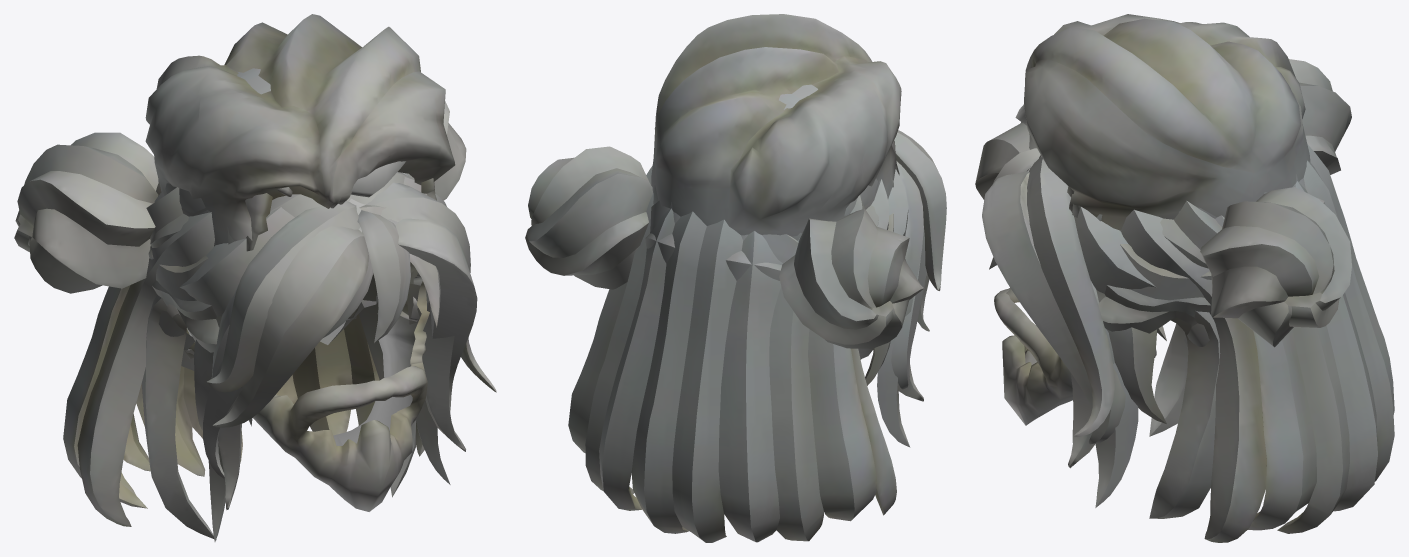
Rendered from hairs.glb.
The picture shows the model from 3 angles, left to right: view 1: azimuth 30°, elevation 25°; view 2: azimuth 150°, elevation 25°; view 3: azimuth 270°, elevation 25°; orthographic projection. The views are drawn at different scales.
Parts seen in each view (by area): view 1: Hair_Long, Hair_SimpleParted, Hair_Buns, Hair_Beard, Hair_Buzzed; view 2: Hair_Long, Hair_SimpleParted, Hair_Buns, Hair_Buzzed; view 3: Hair_Long, Hair_SimpleParted, Hair_Buns, Hair_Beard.
Boxes of the visible parts, left/top/right/bottom form: Hair_Long: left=63, top=173, right=496, bottom=539; Hair_SimpleParted: left=145, top=14, right=455, bottom=244; Hair_Buns: left=14, top=101, right=466, bottom=541; Hair_Beard: left=253, top=262, right=429, bottom=511; Hair_Buzzed: left=161, top=68, right=436, bottom=251; Hair_Long: left=568, top=130, right=946, bottom=542; Hair_SimpleParted: left=651, top=14, right=901, bottom=236; Hair_Buns: left=525, top=146, right=923, bottom=447; Hair_Buzzed: left=653, top=84, right=899, bottom=240; Hair_Long: left=975, top=122, right=1394, bottom=542; Hair_SimpleParted: left=1024, top=14, right=1310, bottom=230; Hair_Buns: left=989, top=59, right=1351, bottom=507; Hair_Beard: left=994, top=288, right=1156, bottom=425.
Bounding box in the file's own units: 0.3015 × 0.3389 × 0.2705.
2 materials, 2 textured.
